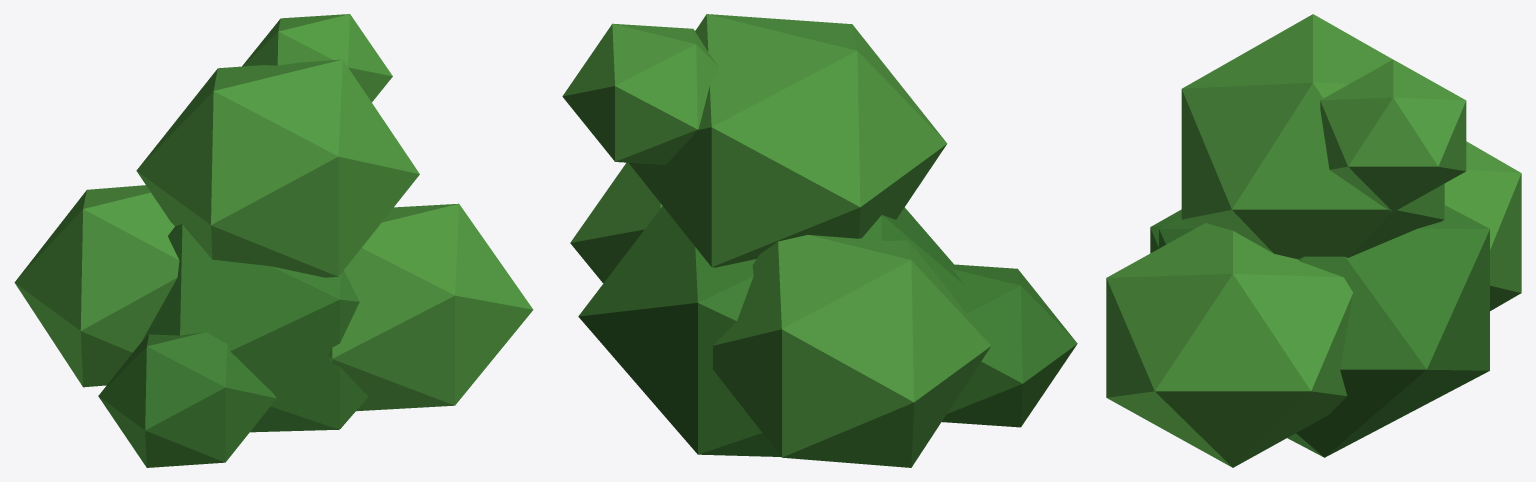
Rendered from bush.glb.
3 views of the same model, side by side, from view 1: azimuth 30°, elevation 25°; view 2: azimuth 150°, elevation 25°; view 3: azimuth 270°, elevation 25° (orthographic). The views are drawn at different scales.
Visible parts, largest first — view 1: Bush; view 2: Bush; view 3: Bush.
Part boxes in pixels (x1=…): Bush: x1=14, y1=14, x2=533, y2=467; Bush: x1=562, y1=14, x2=1077, y2=467; Bush: x1=1106, y1=14, x2=1521, y2=467.
Bounding box in the file's own units: 0.8258 × 0.7318 × 0.7253.
